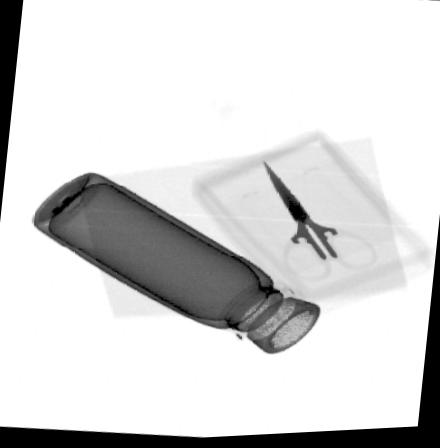Scissors: (261, 159, 379, 282)
